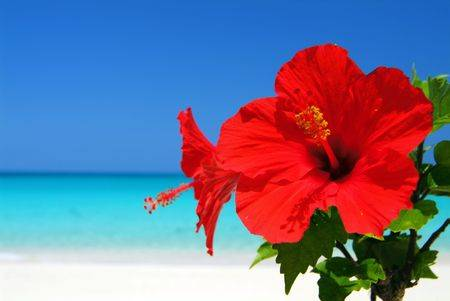Hibiscus: (220, 33, 425, 248), (138, 84, 231, 257)
